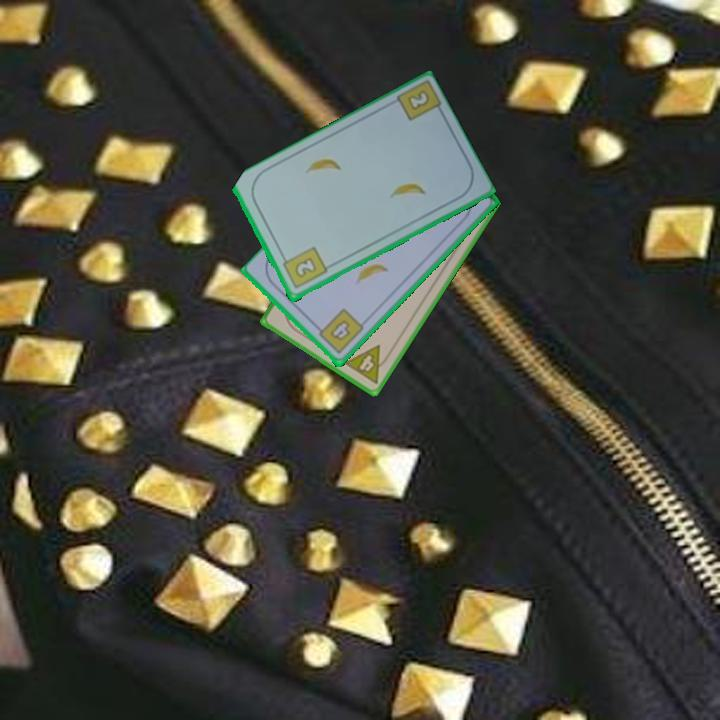2b: (278, 244, 330, 292), (404, 87, 432, 114)
4b: (312, 306, 367, 357)
4p: (340, 341, 394, 387)
